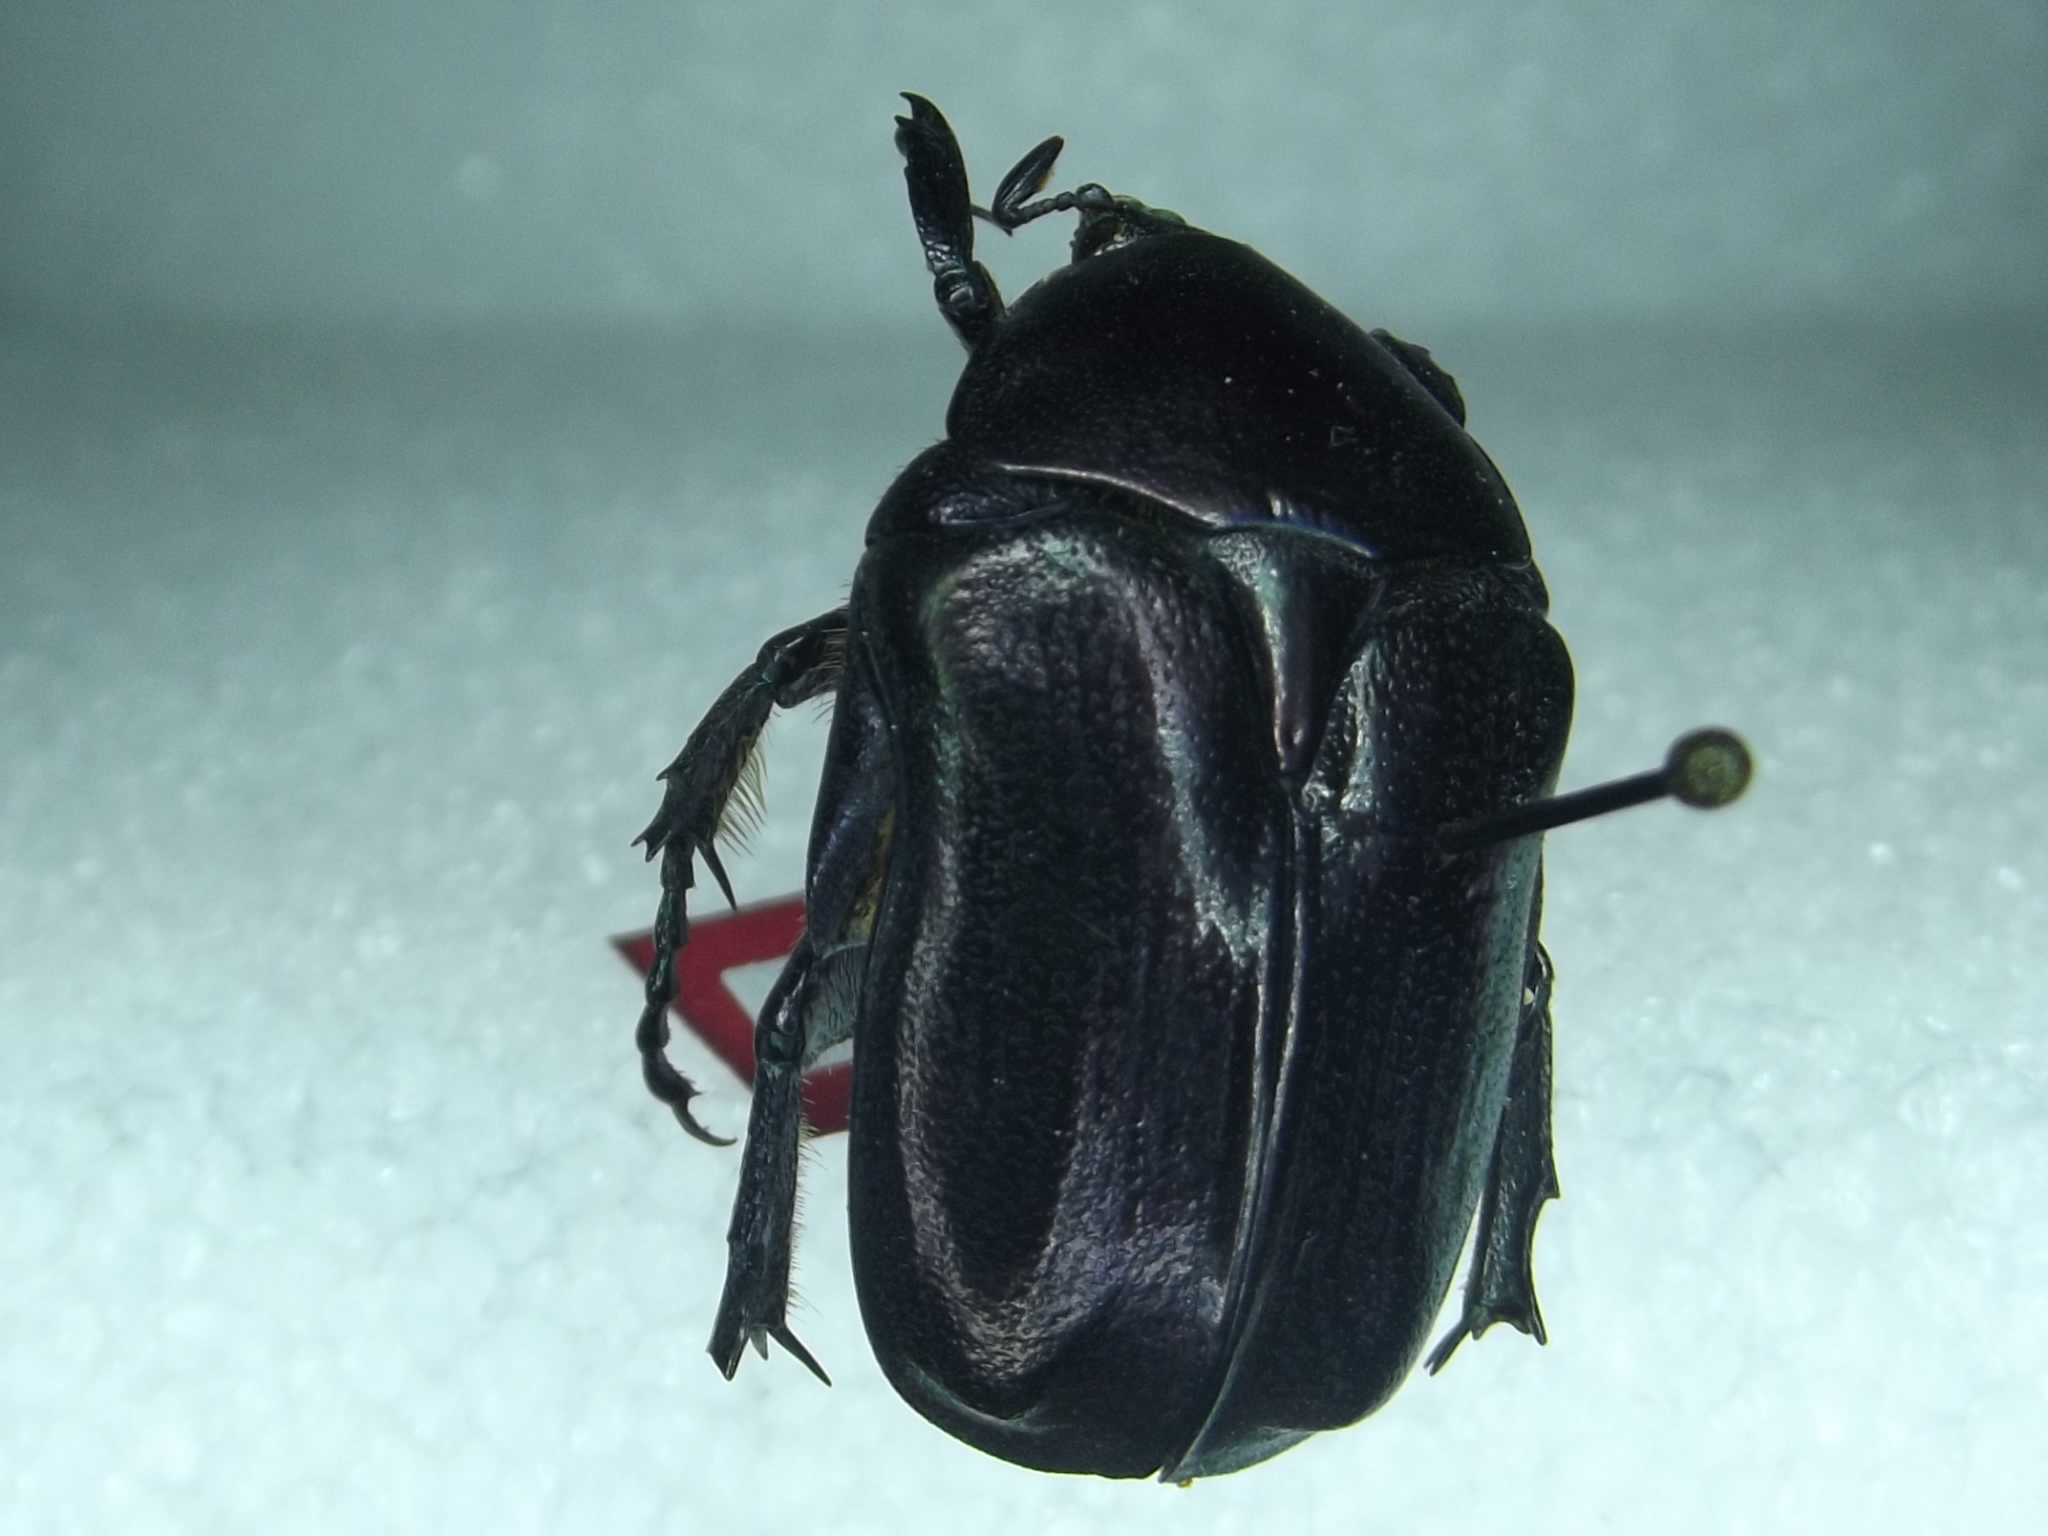Protaetia_besucheti: (622, 63, 1598, 1509)
